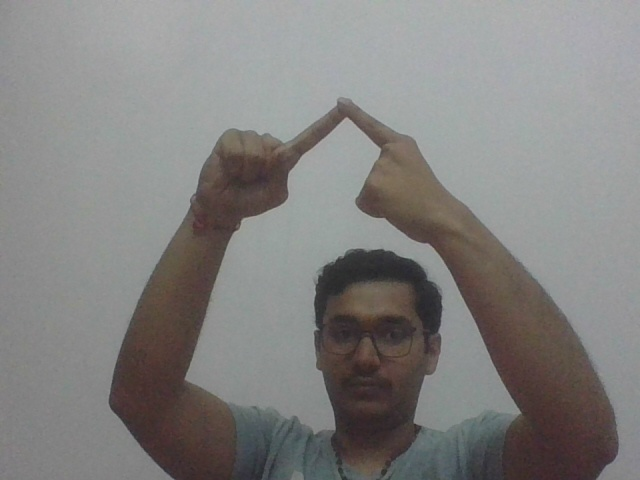E: (197, 95, 461, 241)
